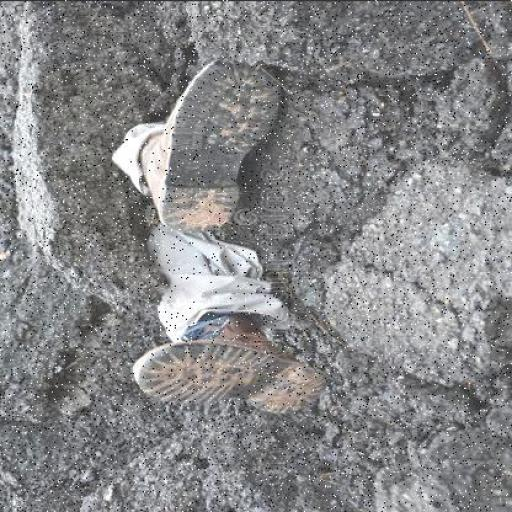safety_shoe: (138, 54, 290, 228), (133, 314, 333, 413)
